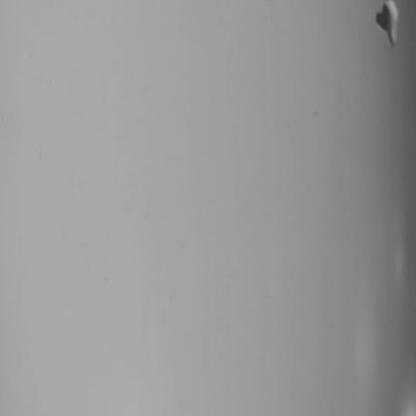kongdong: (365, 1, 401, 49)
